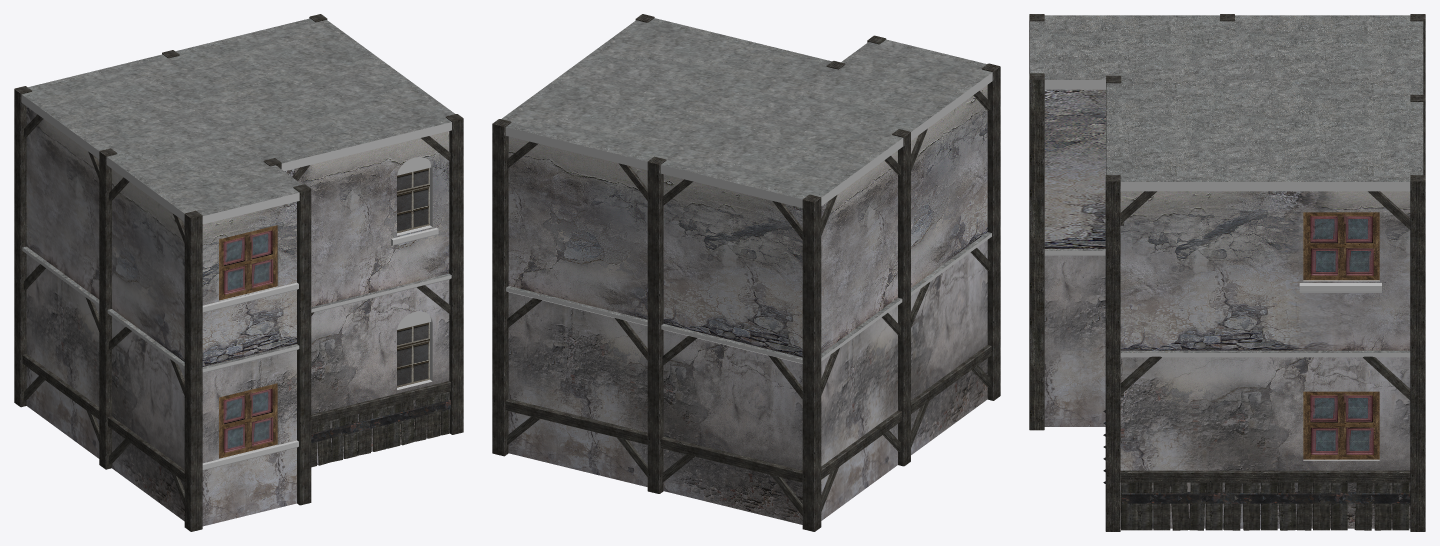
The model's file is Building_05.fbx.
3 views of the same model, side by side, from view 1: azimuth 30°, elevation 25°; view 2: azimuth 150°, elevation 25°; view 3: azimuth 270°, elevation 25° (orthographic). The views are drawn at different scales.
Visible parts, largest first — view 1: Building_05; view 2: Building_05; view 3: Building_05.
Part boxes in pixels (left/top/right/bottom): Building_05: left=14, top=14, right=463, bottom=531; Building_05: left=492, top=14, right=1000, bottom=531; Building_05: left=1029, top=14, right=1425, bottom=531.
Bounding box in the file's own units: 524 × 508 × 520.
